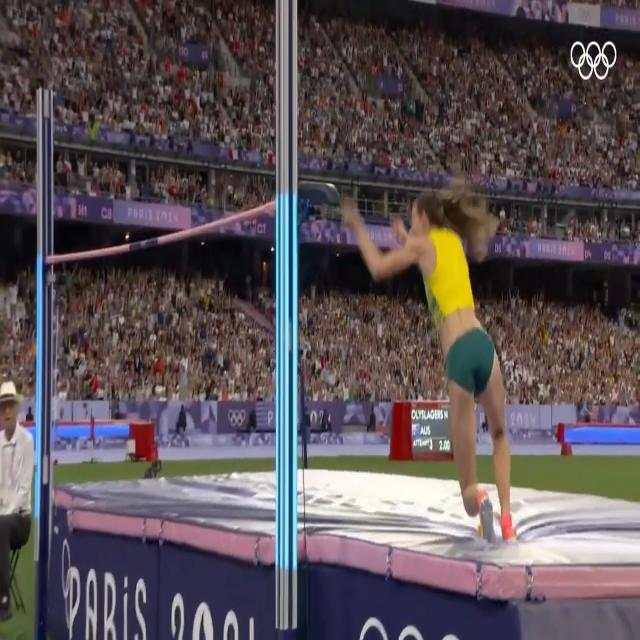land: (366, 194, 516, 542)
